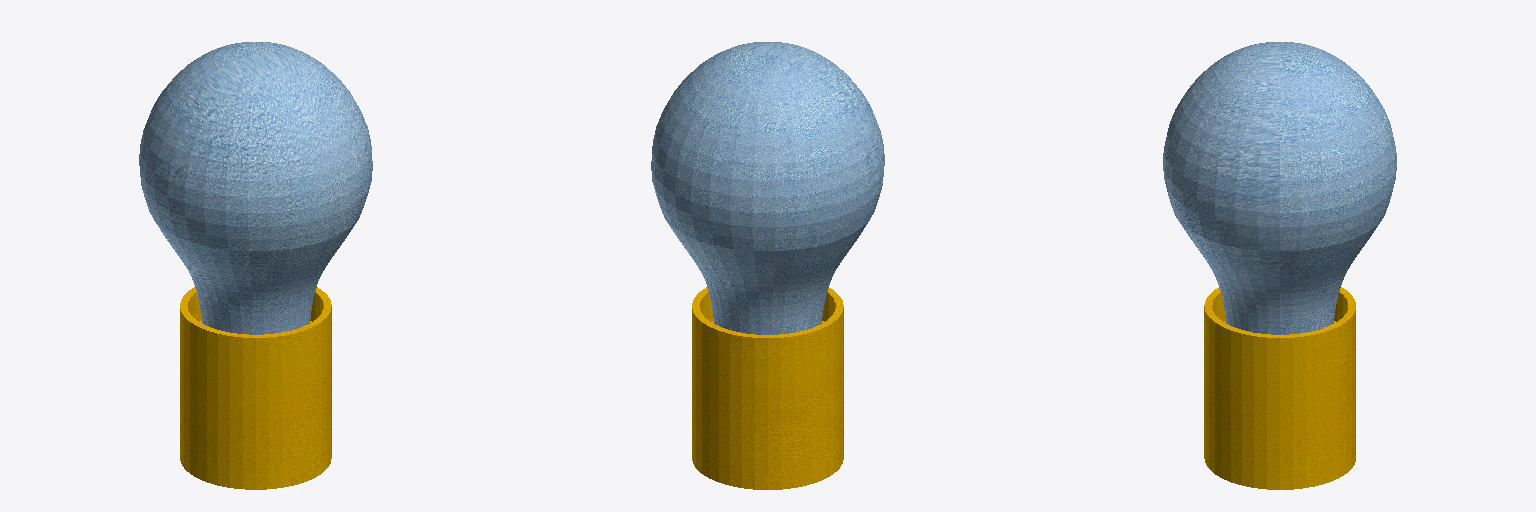
3 views of the same model, side by side, from view 1: azimuth 30°, elevation 25°; view 2: azimuth 150°, elevation 25°; view 3: azimuth 270°, elevation 25° (orthographic).
Parts seen in each view (by area): view 1: polySurface6, polySurface1 ZAHA_LIGHT_floor_lamp1:Cylinder016; view 2: polySurface6, polySurface1 ZAHA_LIGHT_floor_lamp1:Cylinder016; view 3: polySurface6, polySurface1 ZAHA_LIGHT_floor_lamp1:Cylinder016.
Boxes of the visible parts, x1=… form: polySurface6: x1=139, y1=42, x2=372, y2=334; polySurface1 ZAHA_LIGHT_floor_lamp1:Cylinder016: x1=180, y1=287, x2=331, y2=489; polySurface6: x1=651, y1=42, x2=884, y2=334; polySurface1 ZAHA_LIGHT_floor_lamp1:Cylinder016: x1=692, y1=287, x2=843, y2=489; polySurface6: x1=1163, y1=42, x2=1396, y2=334; polySurface1 ZAHA_LIGHT_floor_lamp1:Cylinder016: x1=1204, y1=287, x2=1355, y2=489.
Size of the model in its own units: 0.2494 by 0.4741 by 0.2494.
2 materials, 2 textured.